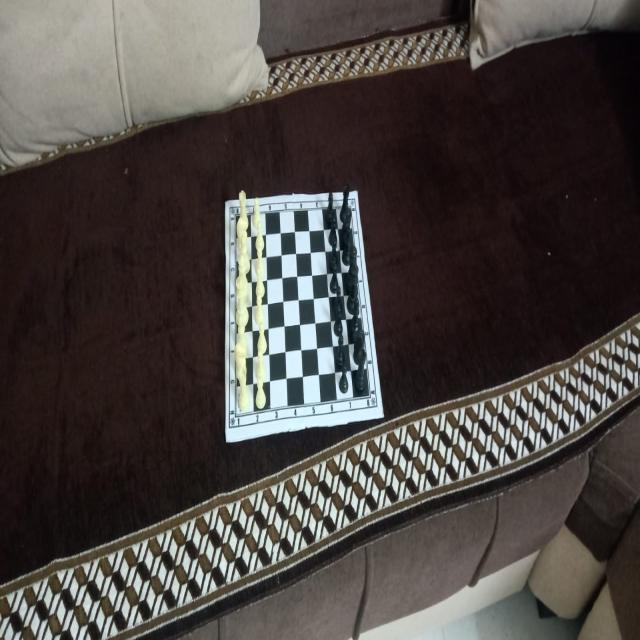corners: (217, 190, 231, 218), (223, 437, 230, 446), (380, 411, 387, 419), (354, 186, 358, 198)
